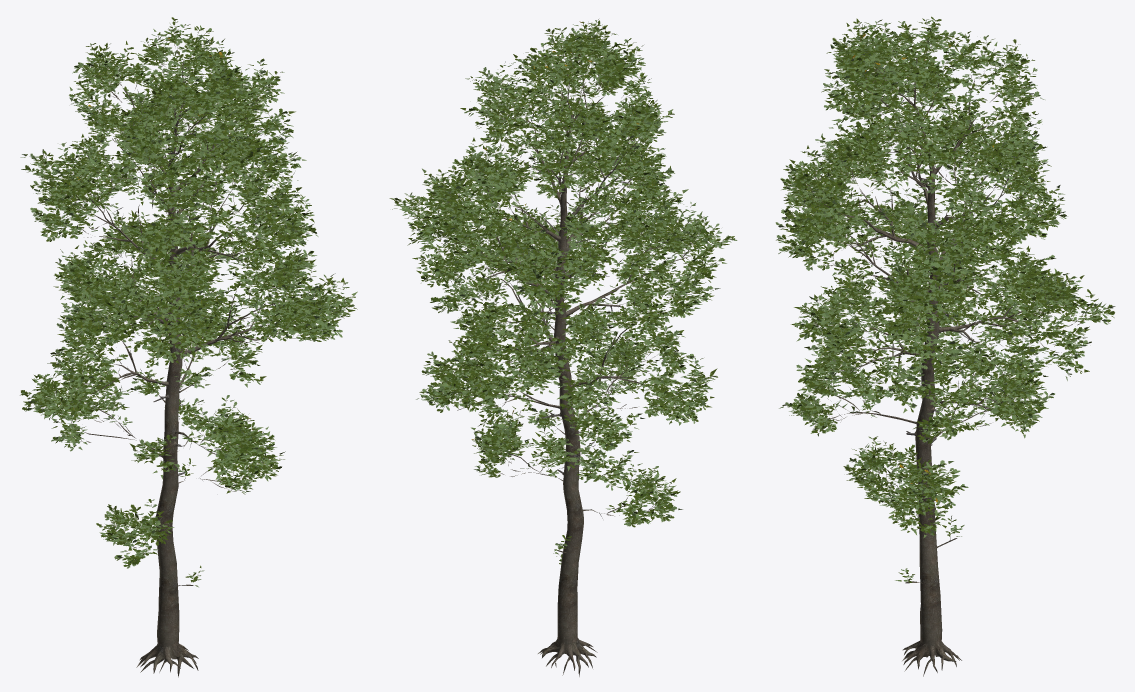
The model's file is quercus-robur-forest-ld-s113.glb.
3 renders of one model, left to right at view 1: azimuth 30°, elevation 25°; view 2: azimuth 150°, elevation 25°; view 3: azimuth 270°, elevation 25°, orthographic. The views are drawn at different scales.
Parts seen in each view (by area): view 1: ForestPlantCatalog_quercus-robur-forest-ld-s113; view 2: ForestPlantCatalog_quercus-robur-forest-ld-s113; view 3: ForestPlantCatalog_quercus-robur-forest-ld-s113.
Part boxes in pixels (x1,y1,x2,y2): ForestPlantCatalog_quercus-robur-forest-ld-s113: (20, 17, 357, 677); ForestPlantCatalog_quercus-robur-forest-ld-s113: (389, 19, 737, 676); ForestPlantCatalog_quercus-robur-forest-ld-s113: (775, 16, 1115, 676).
Bounding box in the file's own units: 6.45 × 13 × 6.25.
13 materials, 13 textured.
